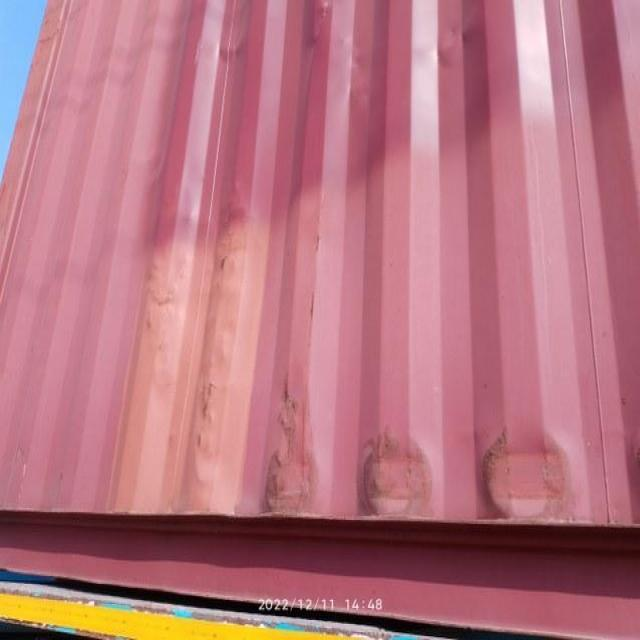Minor-Dent: (347, 414, 450, 520), (257, 372, 329, 519), (475, 417, 573, 523), (431, 20, 492, 66)
